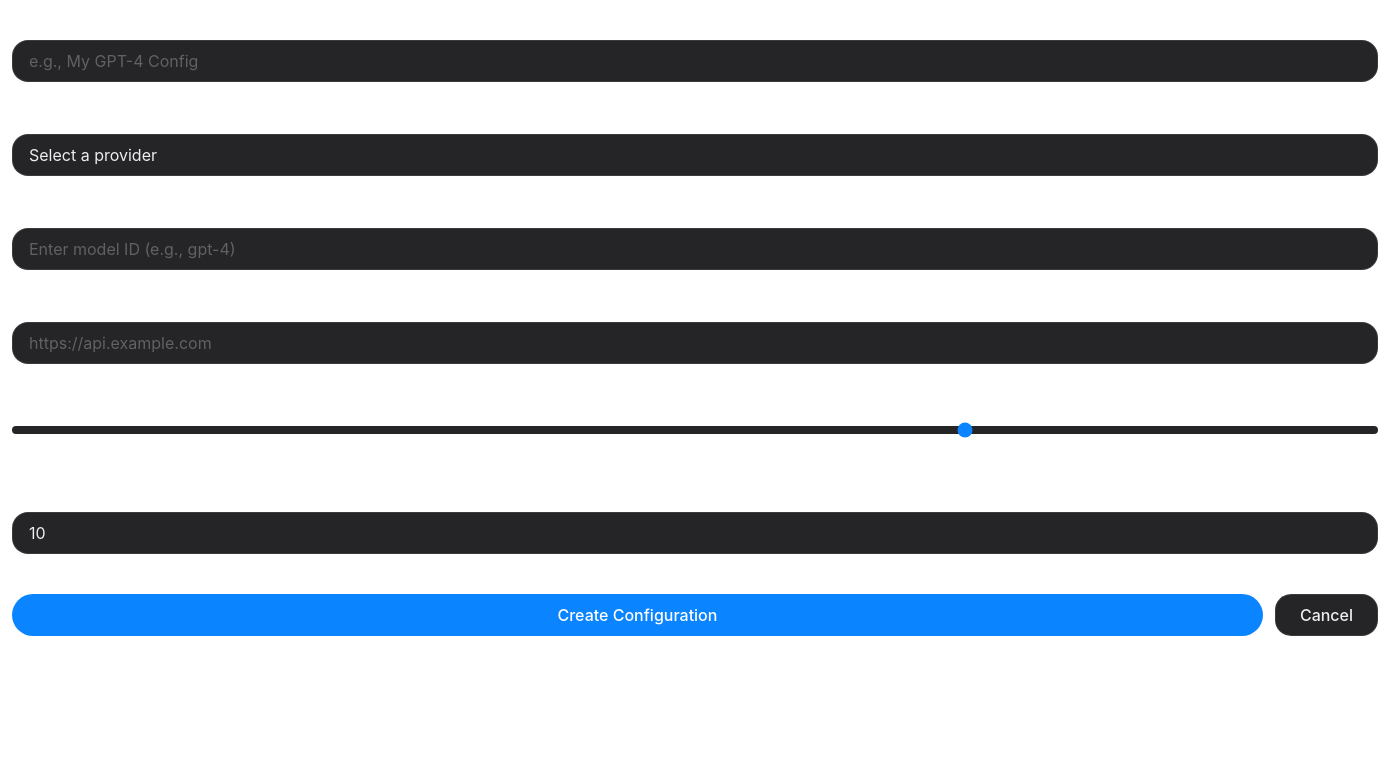
ConfigForm › Validation display › should show validation error for empty name
The width and height of the screenshot is (1390, 780).
Click the button "Create Configuration" at (637, 615), box [12,594,1263,636]
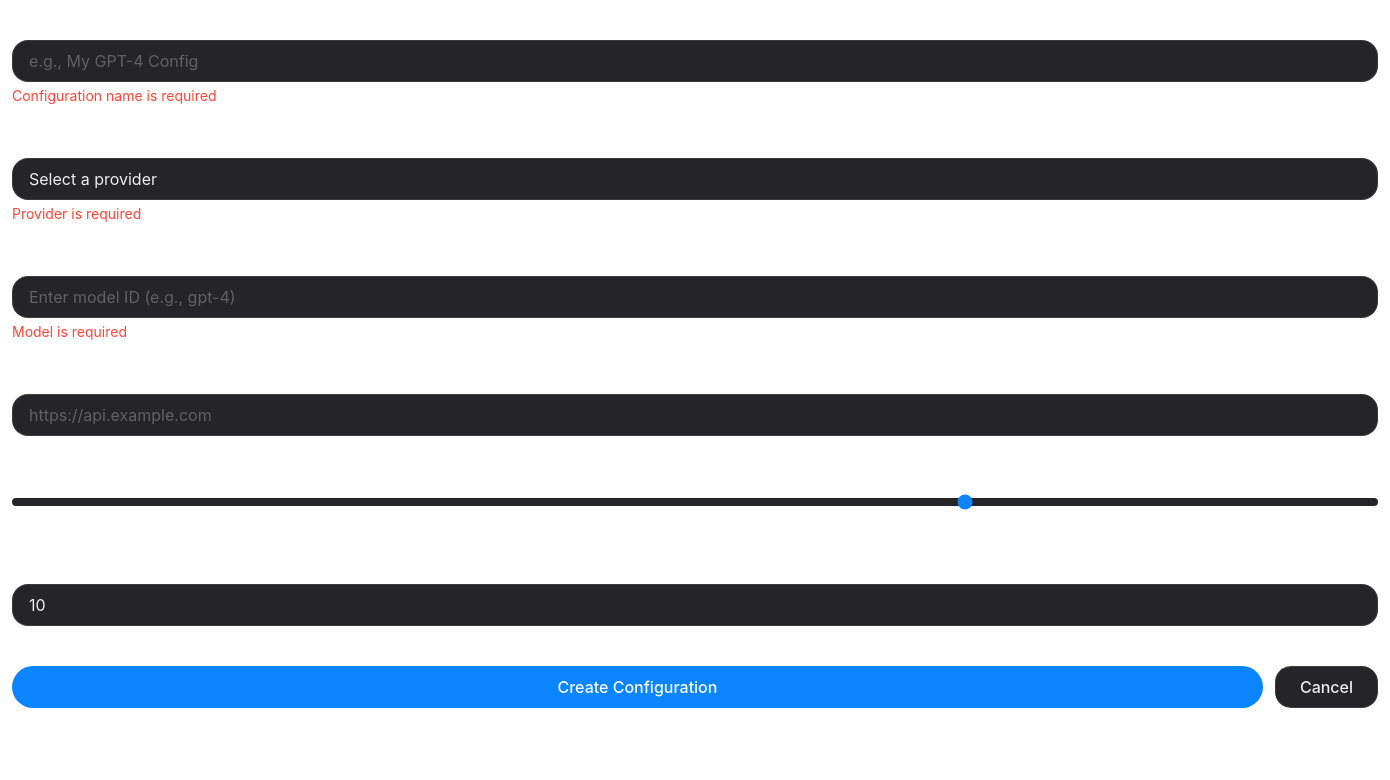
Result: the text "Configuration name is required" is shown at [12,87,216,104]
